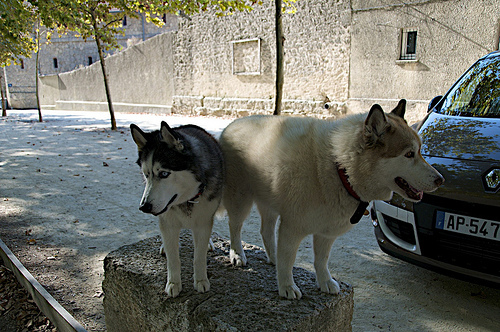dog: (223, 100, 446, 303), (128, 120, 223, 300)
